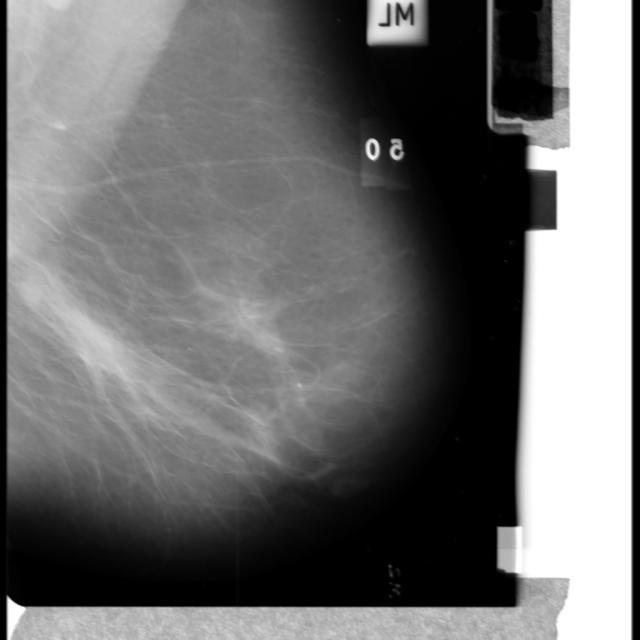MISC: (3, 248, 156, 401)
